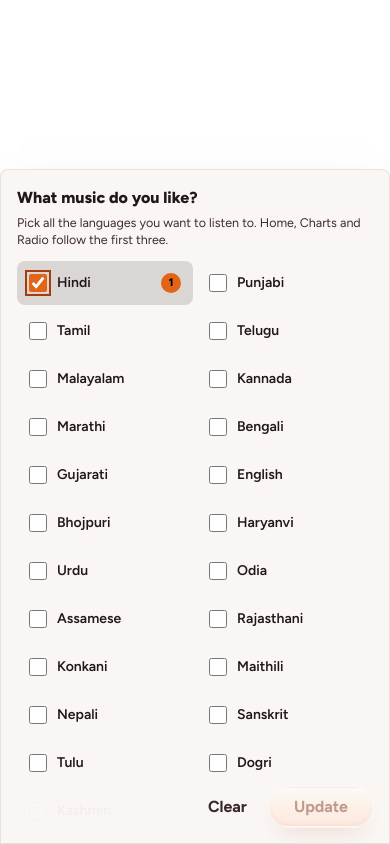
LanguagePicker › starts from the pinned languages and saves only on Update
Later steps or results of the test are not shown.
Expected: the checkbox labelled "Hindi 1" is checked, [29, 274, 47, 292]
Expected: the button "Update" is disabled, [269, 787, 373, 827]
Click the checkbox labelled "Telugu" at [218, 331], box [209, 322, 227, 340]
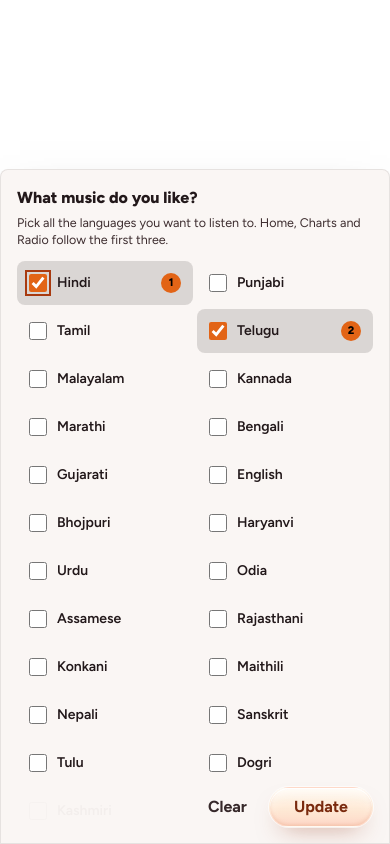
Click the checkbox labelled "Tamil" at [38, 331], box [29, 322, 47, 340]
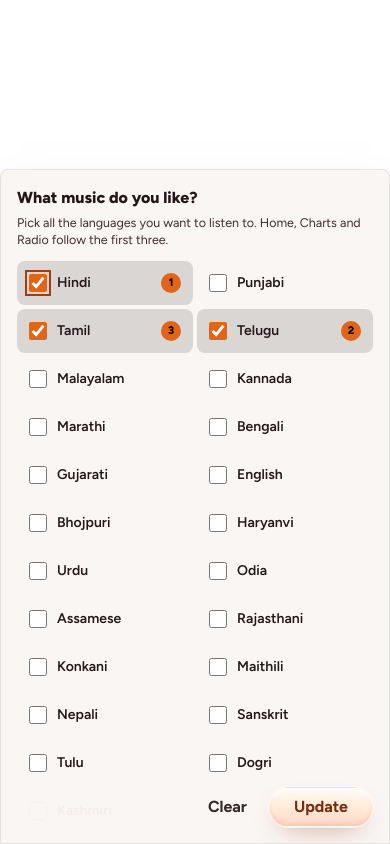
Expected: the button "Update" is enabled, [269, 787, 373, 827]
